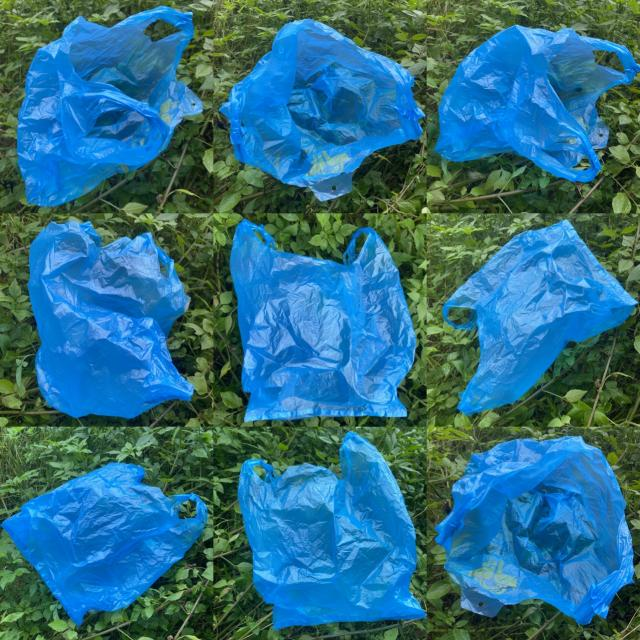Single-layer Plastic: (442, 220, 636, 415), (436, 436, 634, 624), (230, 220, 415, 421), (239, 431, 425, 629), (18, 6, 202, 206), (220, 20, 424, 200), (2, 464, 208, 625), (29, 221, 194, 418), (435, 25, 640, 182)
